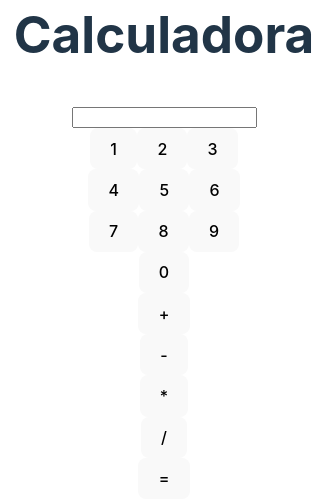
it: calculadora › debe mostrar los numeros y la operaciones
What coordinates should you click on to do the following:
click the button "1"
I would click on:
 (114, 149)
Its box is x1=90 y1=128 x2=137 y2=170.
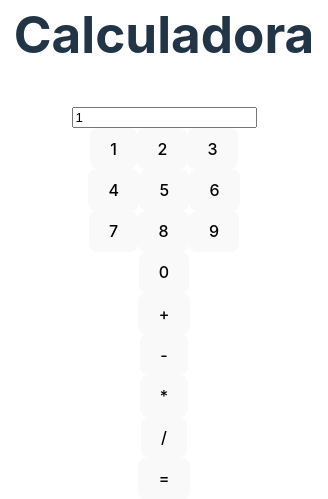
What coordinates should you click on to do the following:
click the button "+"
I would click on:
 (164, 314)
Its box is x1=138 y1=293 x2=190 y2=334.
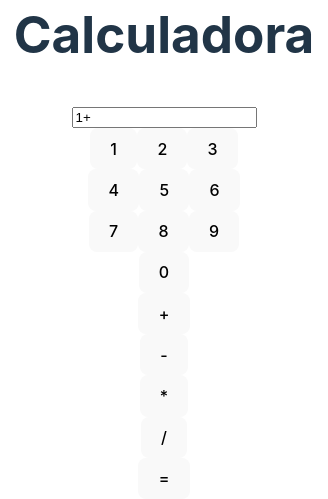
What coordinates should you click on to do the following:
click the button "1"
I would click on:
 (114, 149)
Its box is x1=90 y1=128 x2=137 y2=170.
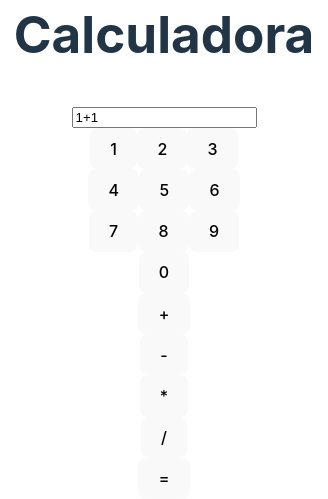
Result: the field holds "1+1" at x1=72 y1=107 x2=256 y2=128
